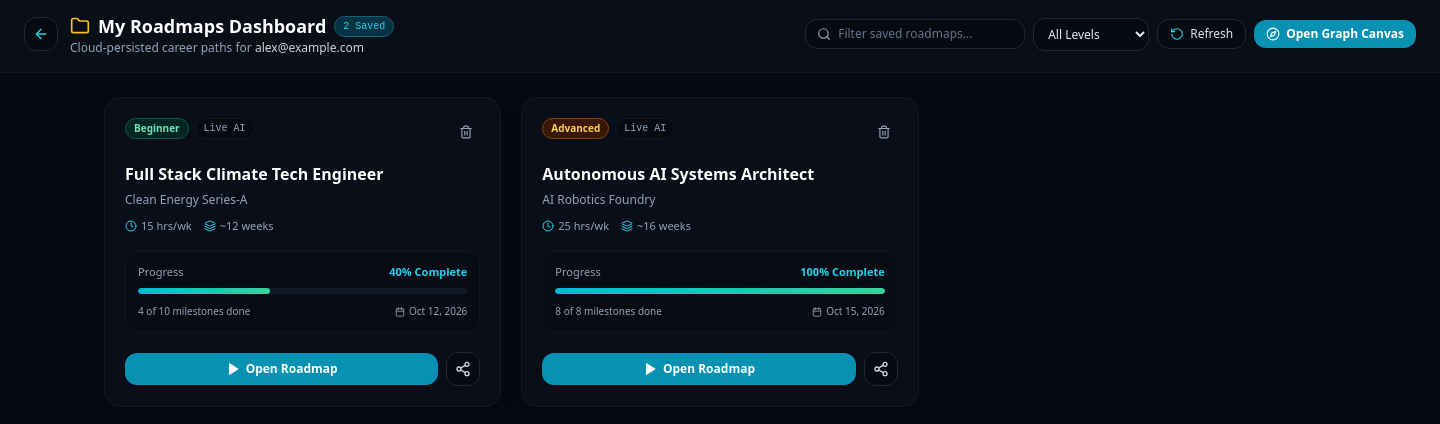
Phase 10 — My Roadmaps Dashboard Tests › filters saved roadmaps by search query
The image size is (1440, 424).
Type "Autonomous" into the field with placeholder "Filter saved roadmaps..." at (915,34), box x1=805 y1=19 x2=1025 y2=49
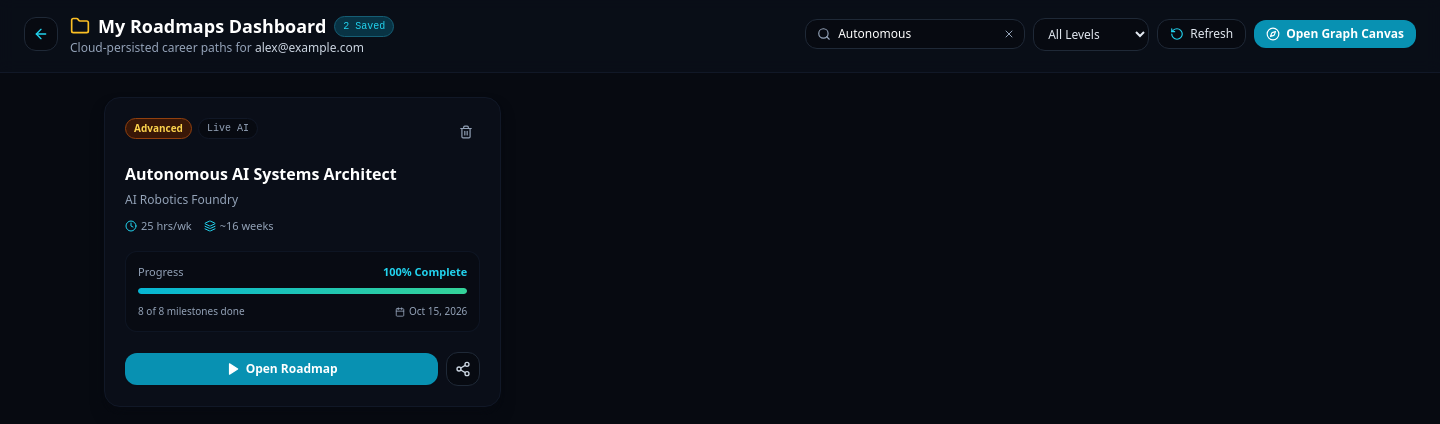
Expected: the heading "Autonomous AI Systems Architect" is shown, x1=125 y1=163 x2=397 y2=185
Now the heading "Full Stack Climate Tech Engineer" is gone
